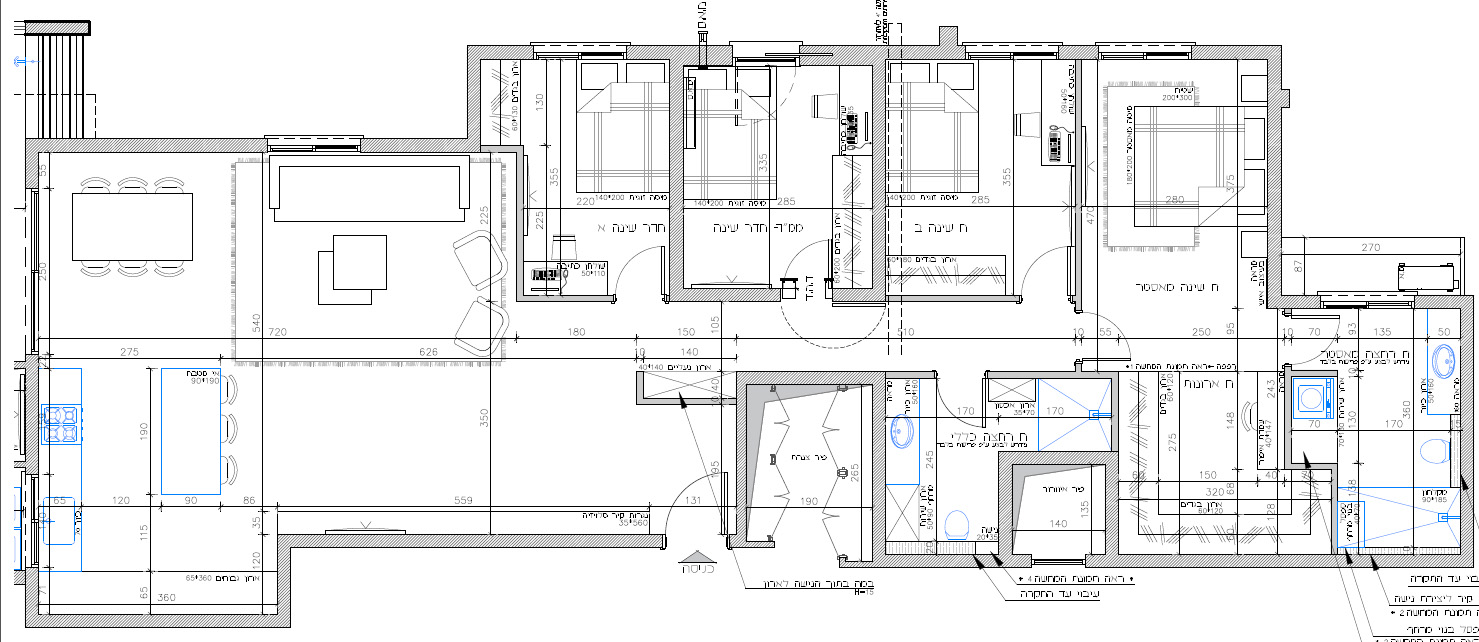door: (658, 465, 735, 532), (1007, 241, 1076, 294), (1087, 308, 1139, 364), (931, 380, 990, 429), (612, 242, 669, 288), (781, 238, 838, 284)
wall: (1086, 555, 1473, 564), (872, 386, 886, 553), (737, 372, 885, 385)
window: (25, 185, 40, 355), (267, 132, 359, 158), (532, 41, 624, 67), (966, 41, 1059, 64), (1097, 43, 1190, 66), (1321, 291, 1414, 314), (731, 43, 799, 69), (24, 472, 41, 567)
